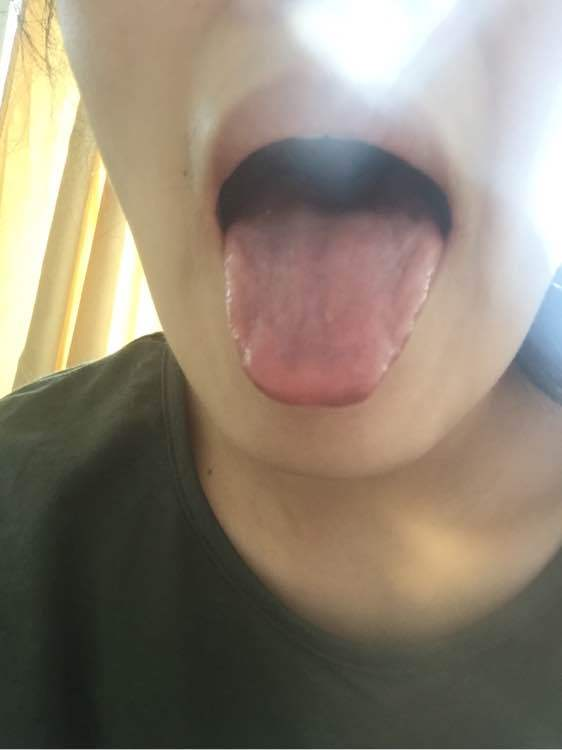baitaishe: (225, 172, 443, 407)
